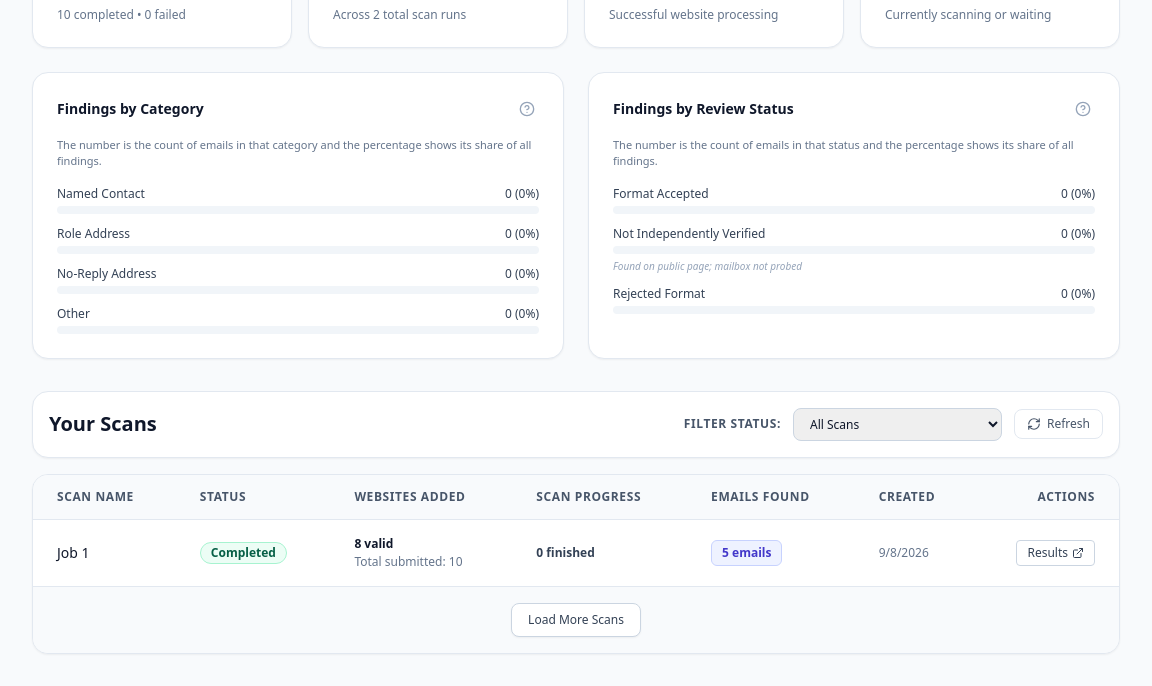
Test: DashboardPage › deduplicates appended jobs by job ID during pagination
(page scrolled)
Expected: the link "Job 1" is shown, x1=57 y1=542 x2=90 y2=562
Click the button "Load More Scans": click(576, 620) x1=511 y1=602 x2=641 y2=636
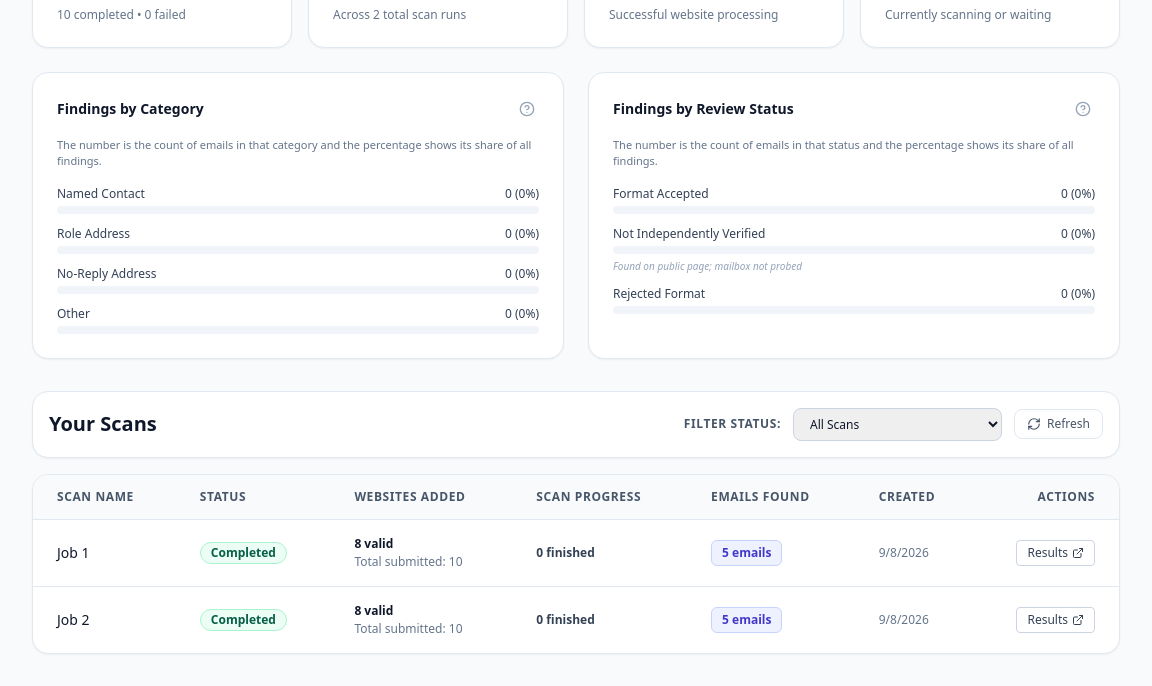
Expected: the link "Job 2" is shown, x1=57 y1=610 x2=90 y2=628
Expected: the number of links "Job 1" is 1, x1=57 y1=542 x2=90 y2=562
